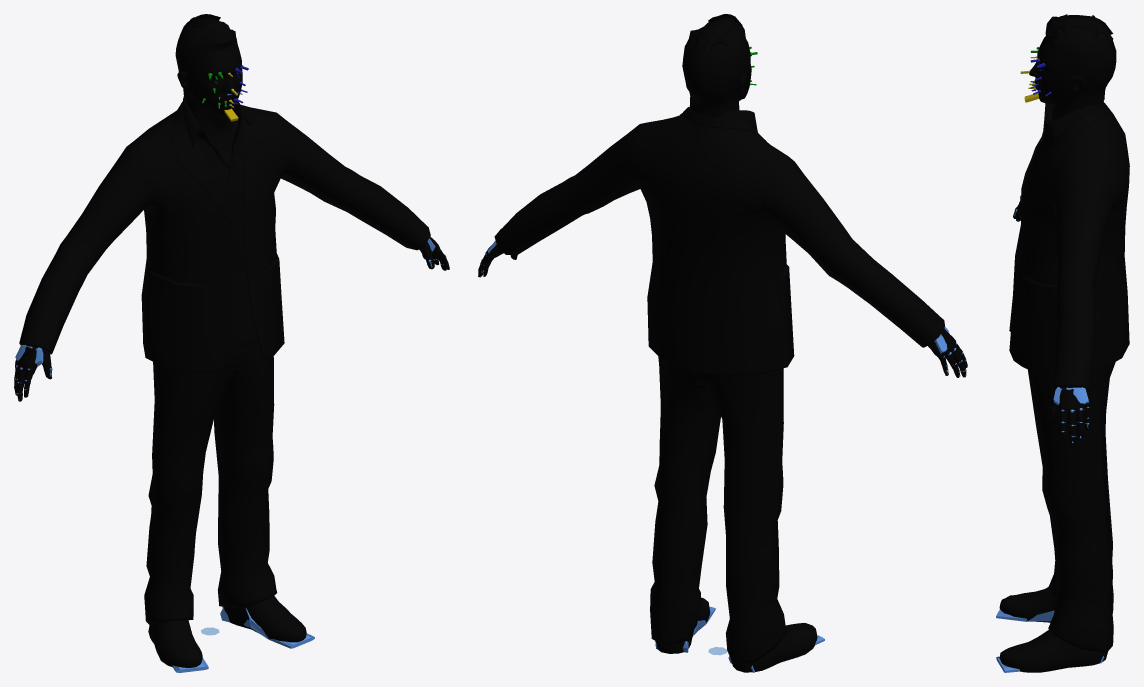
File: human.obj
The picture shows the model from 3 angles, left to right: view 1: azimuth 30°, elevation 25°; view 2: azimuth 150°, elevation 25°; view 3: azimuth 270°, elevation 25°; orthographic projection. The views are drawn at different scales.
Visible parts, largest first — view 1: Peter_LOD_0; view 2: Peter_LOD_0; view 3: Peter_LOD_0, L_Hand.
Part boxes in pixels (x1,y1,x2,y2): Peter_LOD_0: (14, 14, 449, 667); Peter_LOD_0: (478, 14, 967, 672); Peter_LOD_0: (999, 14, 1129, 672); L_Hand: (1053, 387, 1089, 405).
Bounding box in the file's own units: 1.4 × 1.82 × 0.3541.
